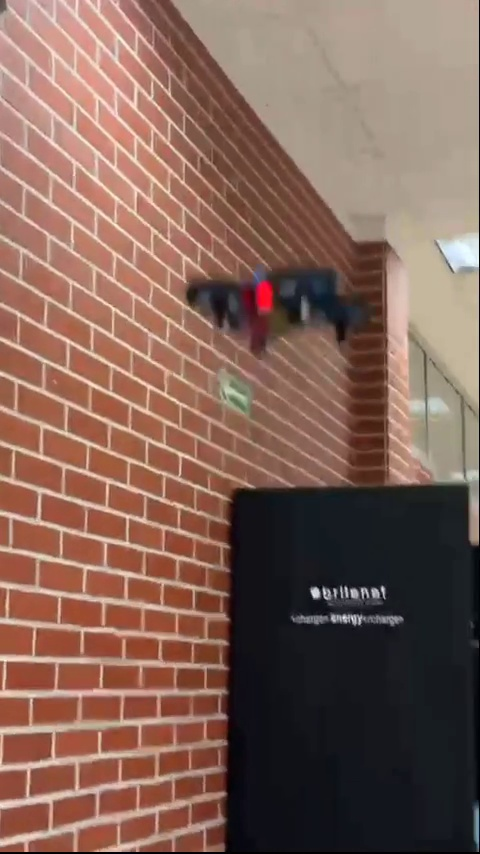drone: (188, 270, 378, 348)
